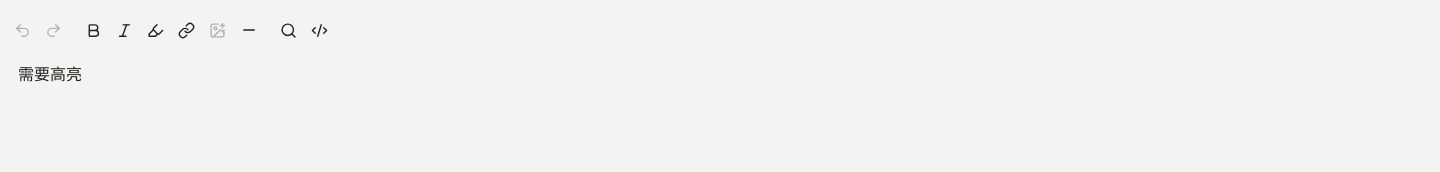
NoteEditor › highlights selected text from the Typora toolbar
The width and height of the screenshot is (1440, 172).
Click the button named "高亮": x=156, y=30 [141, 16, 170, 44]
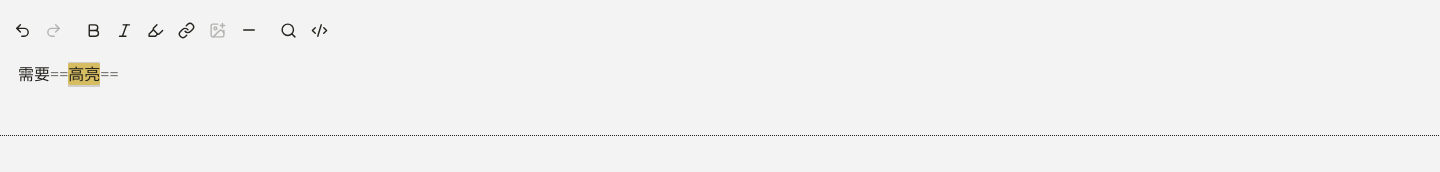
Expected: the text box with class "cm-typora-highlight" is shown, [68, 63, 100, 85]
Result: the text box labelled "需要==高亮==" is shown at [18, 63, 119, 85]
